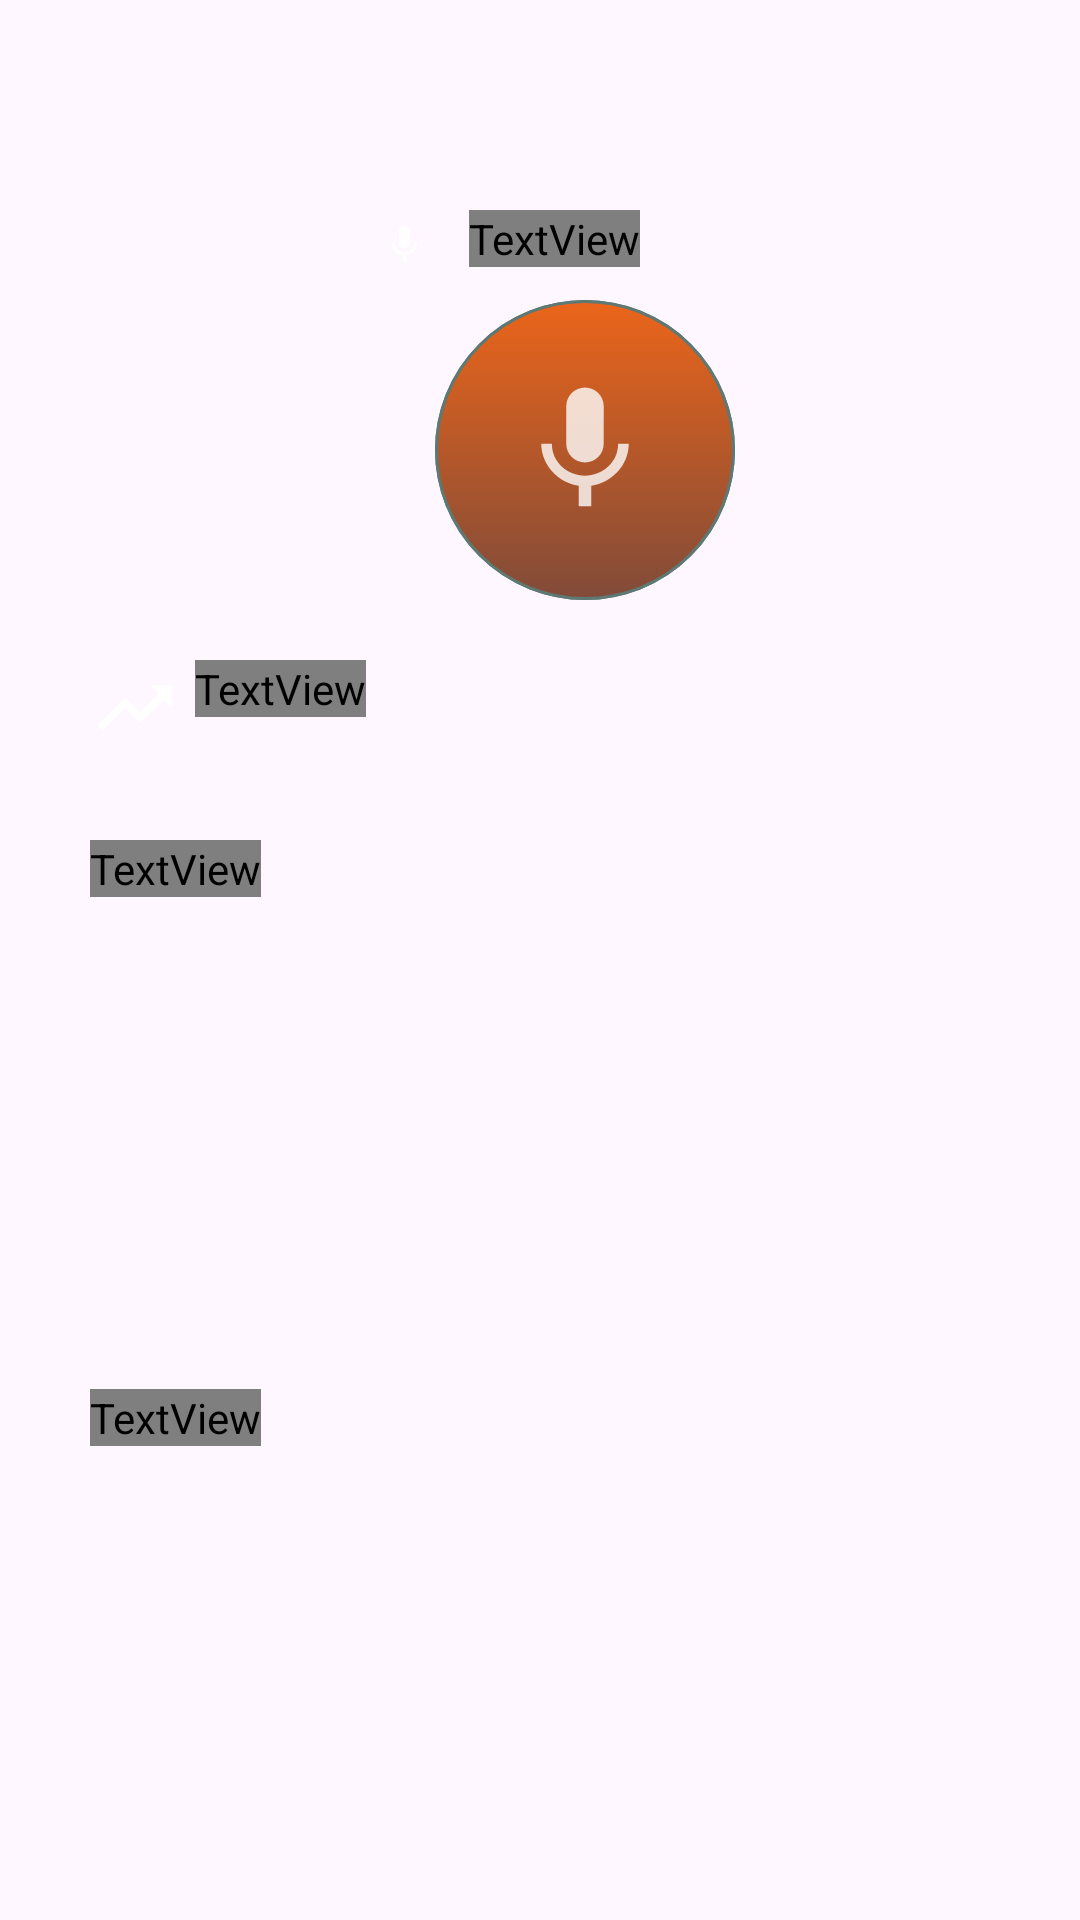

Screen size 1080 x 1920. Icon name, then its box in pixels as (x1, y1, x2, y2):
mic: (435, 300, 735, 600)
